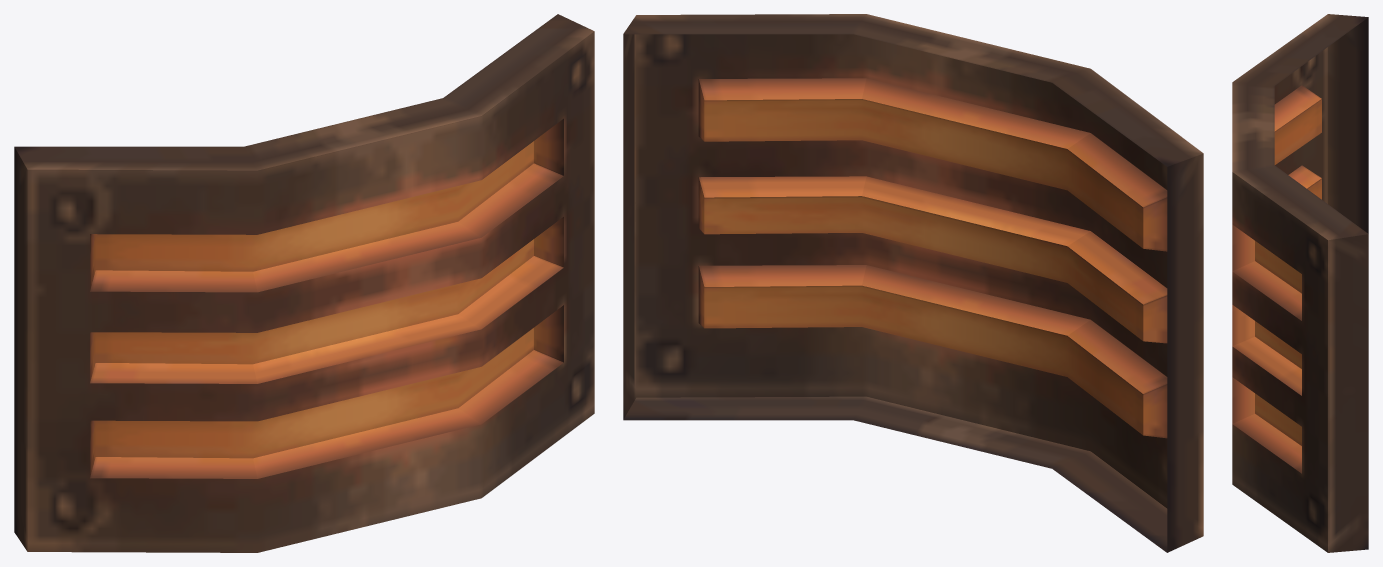
The model's file is sn_jixie_guolumen_001.FBX.
3 views of the same model, side by side, from view 1: azimuth 30°, elevation 25°; view 2: azimuth 150°, elevation 25°; view 3: azimuth 270°, elevation 25° (orthographic). The views are drawn at different scales.
Parts seen in each view (by area): view 1: sn_jixie_guolumen_001; view 2: sn_jixie_guolumen_001; view 3: sn_jixie_guolumen_001.
Boxes of the visible parts, x1,y1,x2,y2 form: sn_jixie_guolumen_001: [14, 14, 594, 552]; sn_jixie_guolumen_001: [623, 14, 1203, 552]; sn_jixie_guolumen_001: [1232, 14, 1368, 552].
Bounding box in the file's own units: 5.45 × 1.39 × 3.54.
